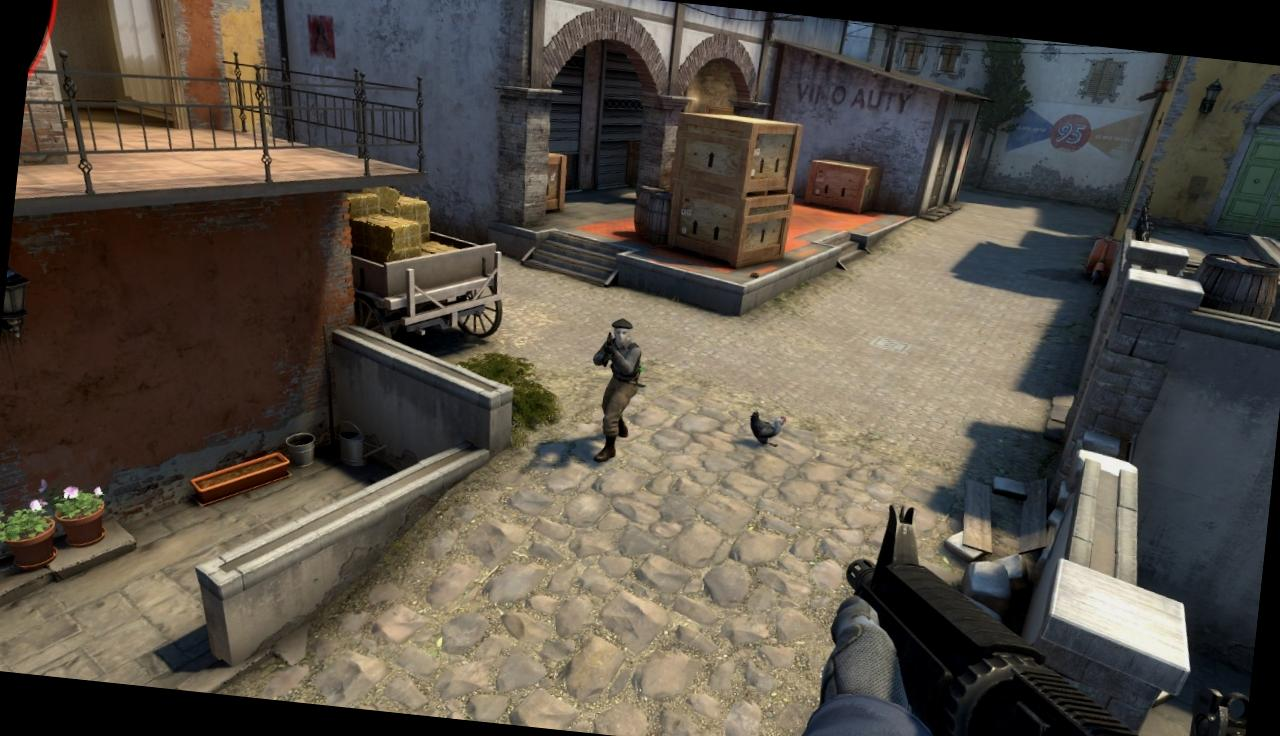rifle: (826, 496, 1265, 736)
tt: (588, 316, 646, 465)
tthead: (609, 318, 632, 346)
